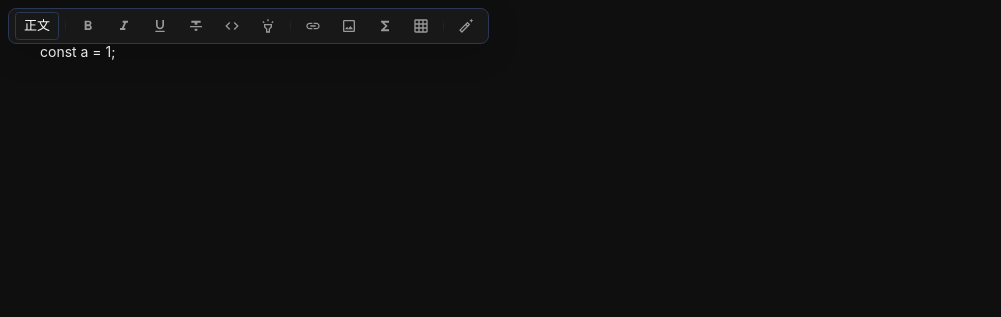
Scenario: EditorV2 — onConvertBlock 转换矩阵分发 › 段落 → 代码块：生成代码栅栏
The image size is (1001, 317).
Expected: the element with class "floating-toolbar-v2" is shown, [8,8,489,44]
What coordinates should you click on to do the following:
click the button with class "block-type-trigger"
I would click on:
 (37, 26)
Its box is [15,12,59,40].
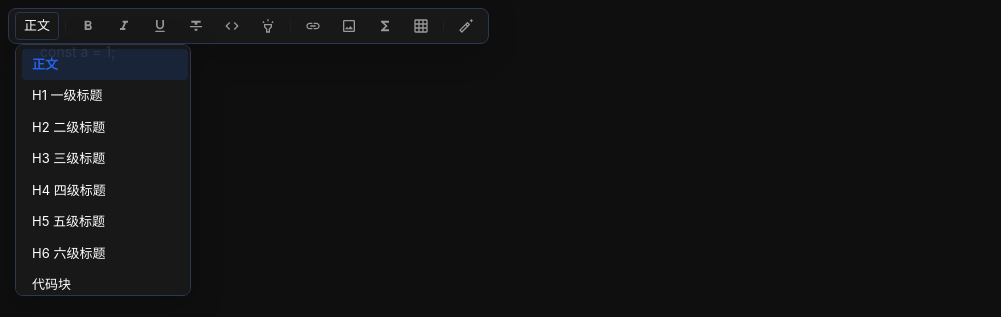
What coordinates should you click on to do the following:
click the button "代码块"
I would click on:
 (105, 285)
Its box is [22,269,188,300].
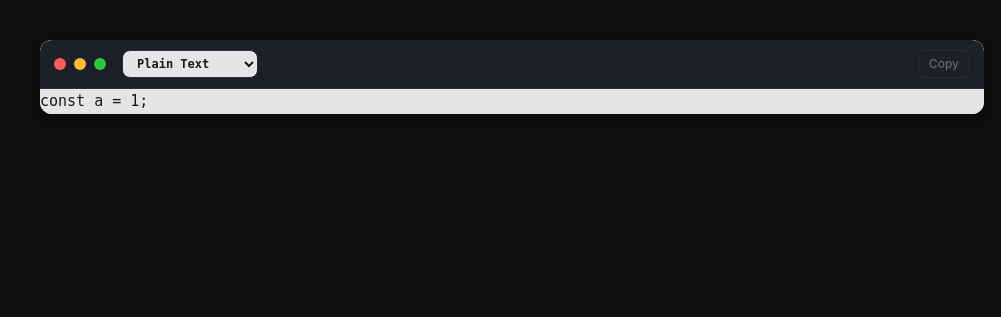
Expected: the element with class "code-fence-block" is shown, [40,40,984,114]
